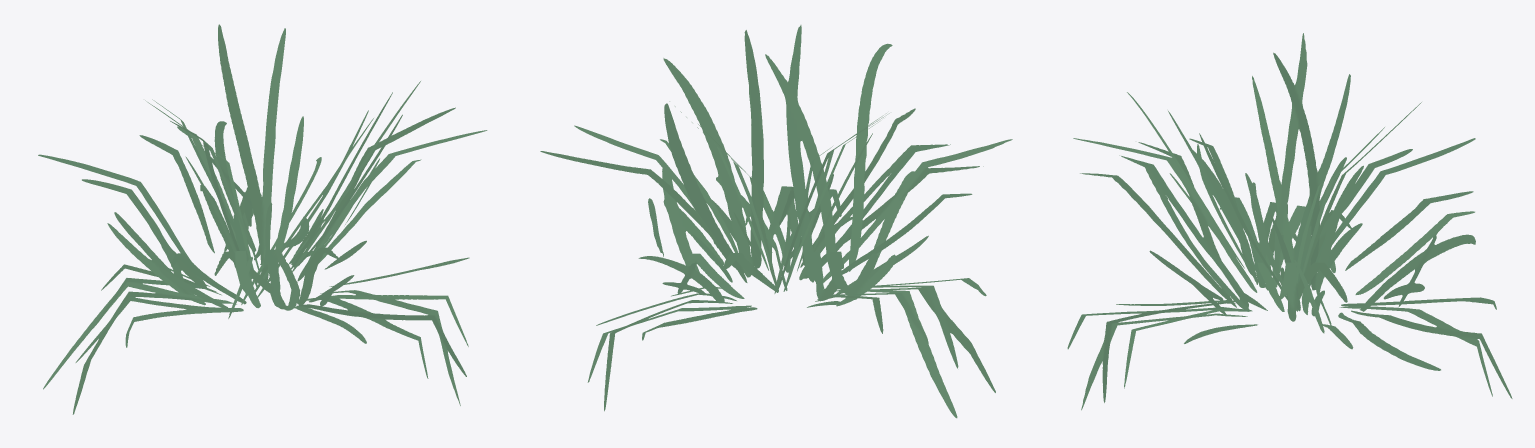
Rendered from fairy_finegrass_gloam_1.glb.
3 views of the same model, side by side, from view 1: azimuth 30°, elevation 25°; view 2: azimuth 150°, elevation 25°; view 3: azimuth 270°, elevation 25° (orthographic). The views are drawn at different scales.
Parts seen in each view (by area): view 1: fairy_finegrass_gloam_1; view 2: fairy_finegrass_gloam_1; view 3: fairy_finegrass_gloam_1.
Part boxes in pixels (<box>): fairy_finegrass_gloam_1: <box>38,24,487,414</box>; fairy_finegrass_gloam_1: <box>540,25,1012,418</box>; fairy_finegrass_gloam_1: <box>1067,33,1512,410</box>.
Size of the model in its own units: 0.4985 by 0.3364 by 0.4605.
1 material, 1 textured.
